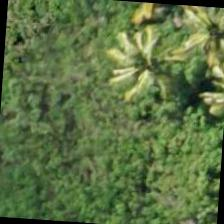Kelapa_Sawit: (94, 18, 190, 114), (162, 4, 223, 80)
